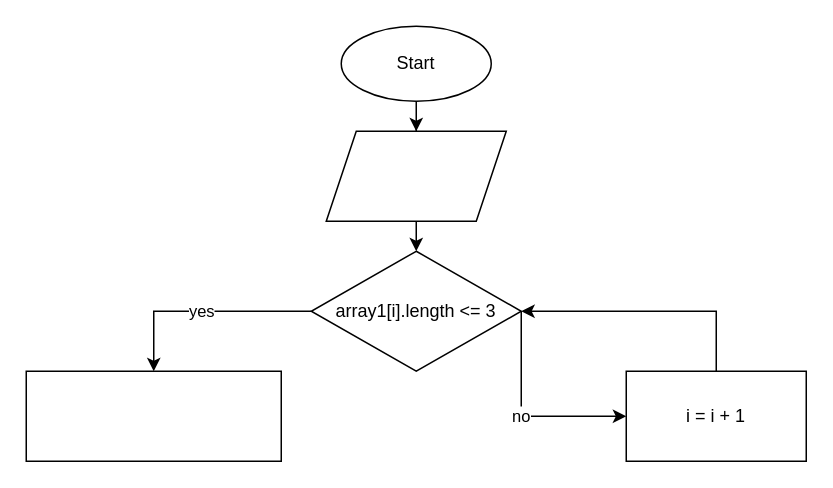
The diagram is 833 pixels wide and 488 high, and some of its shapes have lost their labels. Here are the shapes that lost their labels. From the top down, the centre of each, then its label:
At (x=415, y=175): "string array1 string array2 count = 0 i = 0".
At (x=153, y=415): "array2[count] = array1[i] count = count + 1".
